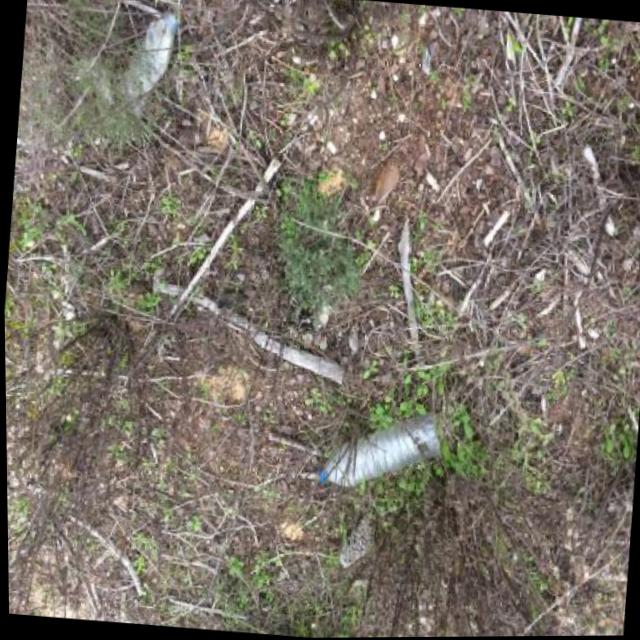plastic: (316, 402, 442, 495), (114, 9, 182, 120)
